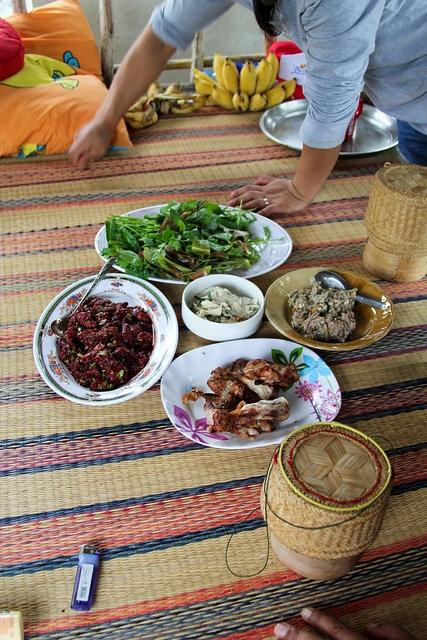banana: (122, 103, 158, 129), (193, 75, 219, 105), (222, 57, 241, 96), (160, 82, 182, 115), (254, 57, 272, 94), (240, 59, 258, 96), (270, 78, 297, 102), (264, 51, 279, 92), (212, 84, 235, 110), (263, 85, 286, 110), (213, 52, 227, 89), (192, 68, 220, 86), (232, 90, 250, 112), (126, 96, 150, 112), (249, 92, 269, 111), (146, 81, 163, 97), (171, 104, 194, 114)
